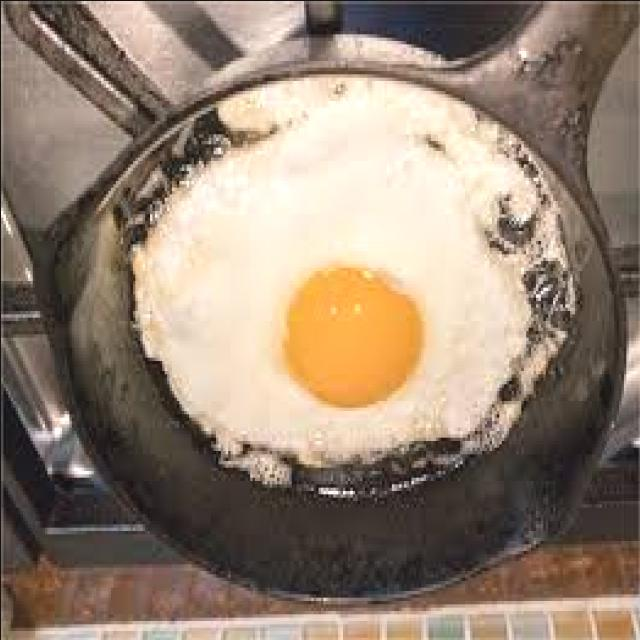telur ceplok: (154, 187, 523, 463)
